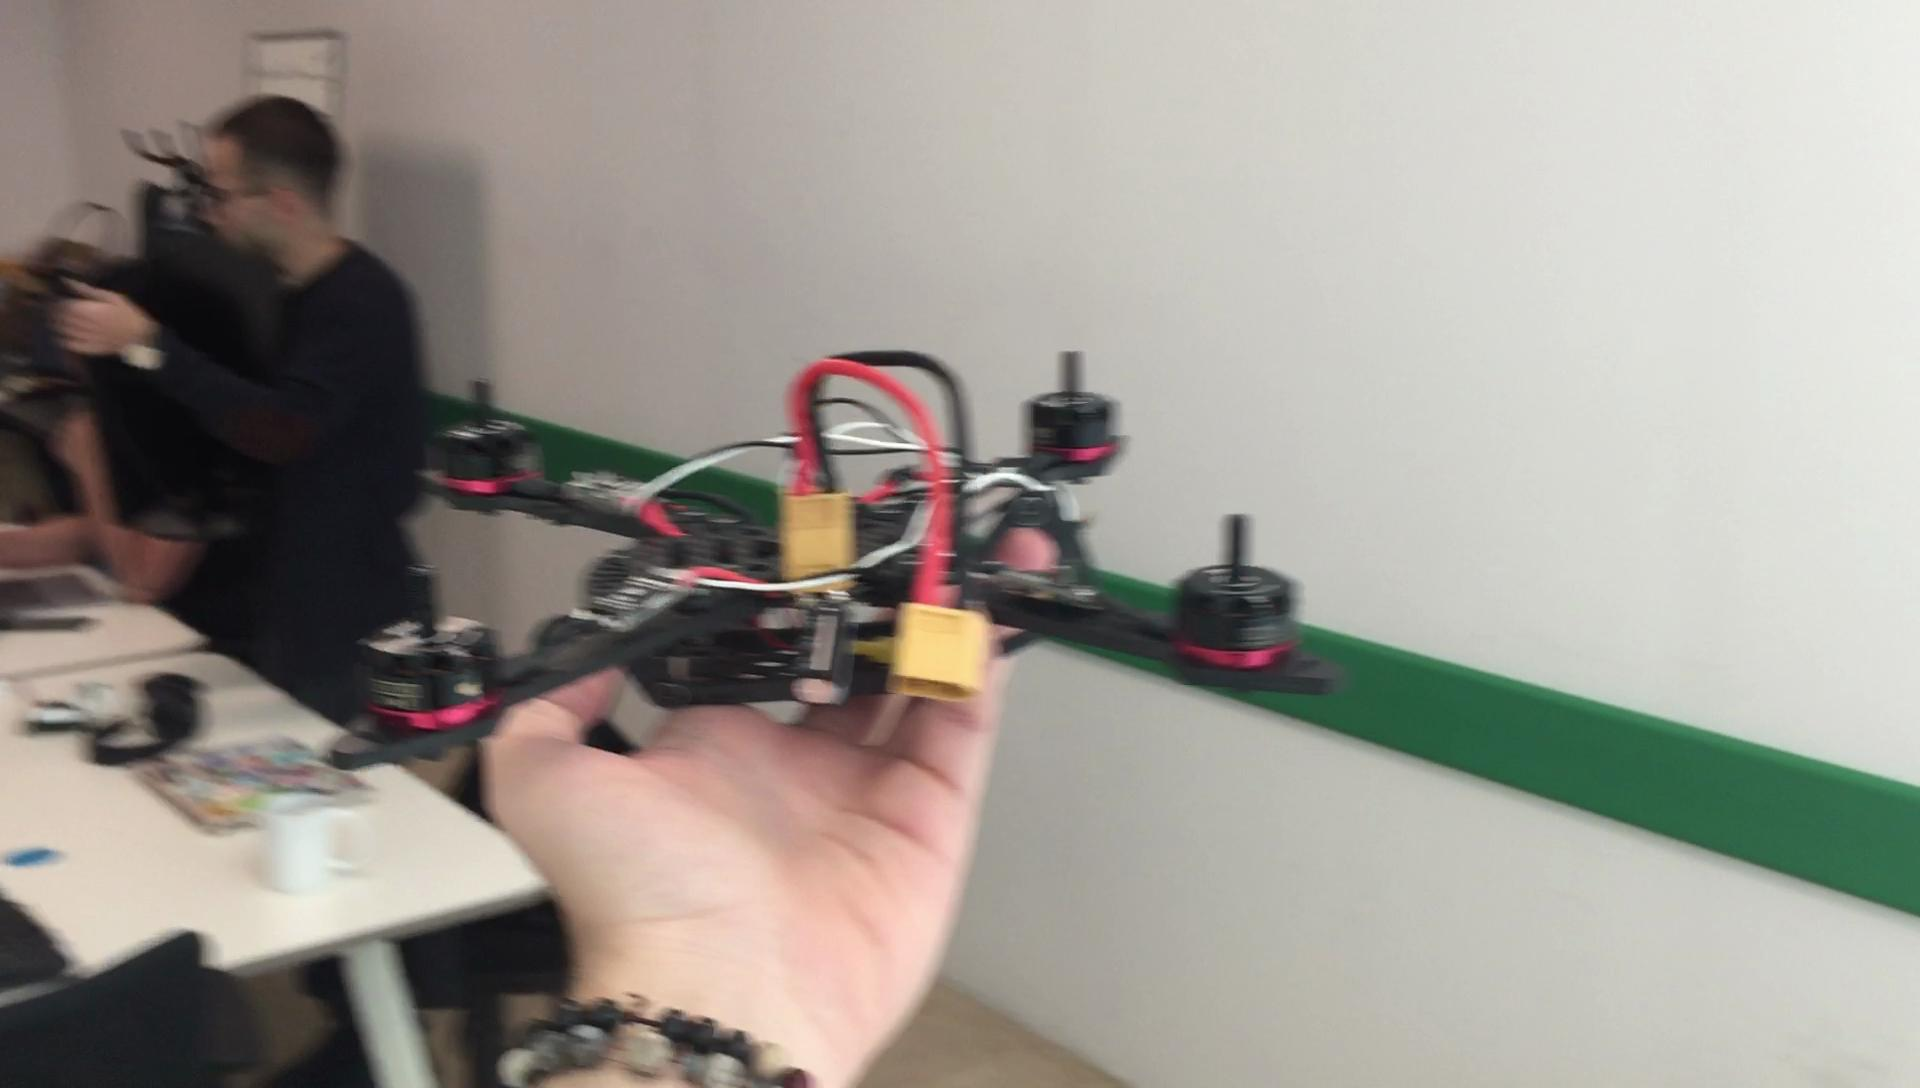drone: (331, 344, 1360, 771)
